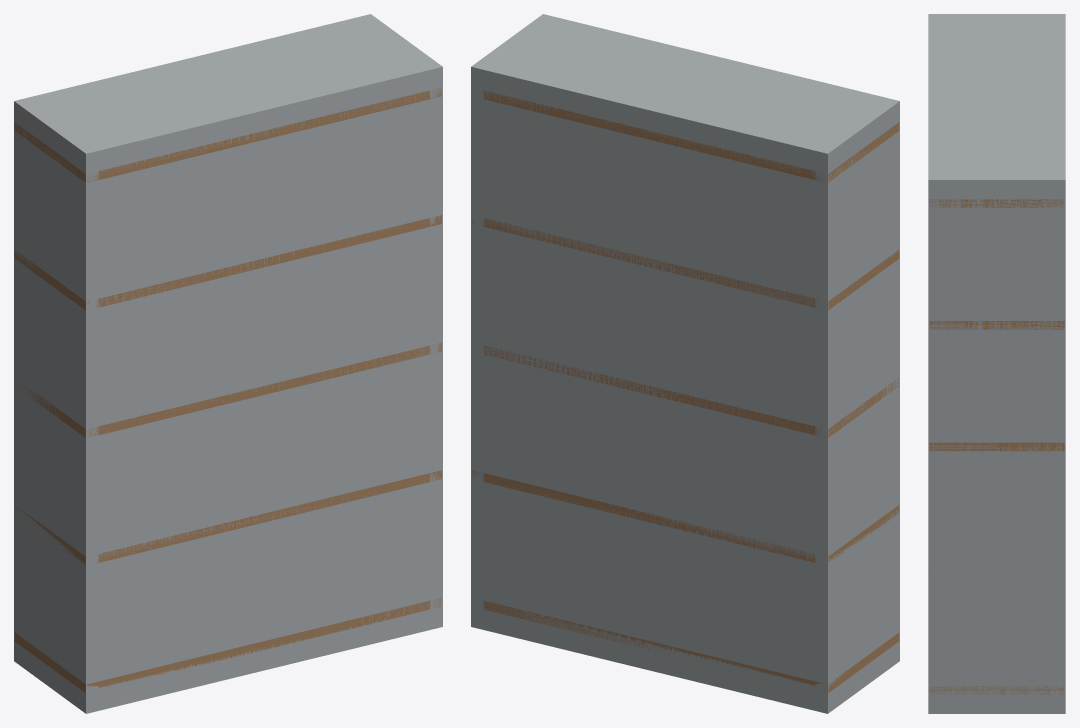
The model's file is open_shelf.glb.
3 renders of one model, left to right at view 1: azimuth 30°, elevation 25°; view 2: azimuth 150°, elevation 25°; view 3: azimuth 270°, elevation 25°, orthographic. The views are drawn at different scales.
Visible parts, largest first — view 1: propkit_open_shelf_COL, propkit_open_shelf_002_post, propkit_open_shelf_004_post, propkit_open_shelf_009_shelf_4, propkit_open_shelf_008_shelf_3, propkit_open_shelf_007_shelf_2, propkit_open_shelf_005_shelf_0, propkit_open_shelf_006_shelf_1; view 2: propkit_open_shelf_COL, propkit_open_shelf_001_post, propkit_open_shelf_003_post, propkit_open_shelf_009_shelf_4, propkit_open_shelf_008_shelf_3, propkit_open_shelf_006_shelf_1, propkit_open_shelf_007_shelf_2, propkit_open_shelf_005_shelf_0; view 3: propkit_open_shelf_COL, propkit_open_shelf_007_shelf_2, propkit_open_shelf_008_shelf_3, propkit_open_shelf_009_shelf_4, propkit_open_shelf_004_post, propkit_open_shelf_005_shelf_0, propkit_open_shelf_003_post.
Part boxes in pixels (x1,y1,x2,y2): propkit_open_shelf_COL: (14,14,442,713); propkit_open_shelf_002_post: (79,145,98,712); propkit_open_shelf_004_post: (425,61,441,628); propkit_open_shelf_009_shelf_4: (14,87,441,182); propkit_open_shelf_008_shelf_3: (14,215,441,309); propkit_open_shelf_007_shelf_2: (20,342,441,437); propkit_open_shelf_005_shelf_0: (14,598,441,692); propkit_open_shelf_006_shelf_1: (15,470,441,565); propkit_open_shelf_COL: (471,14,899,713); propkit_open_shelf_001_post: (815,145,834,712); propkit_open_shelf_003_post: (472,62,486,628); propkit_open_shelf_009_shelf_4: (472,90,899,182); propkit_open_shelf_008_shelf_3: (472,218,899,309); propkit_open_shelf_006_shelf_1: (472,470,899,562); propkit_open_shelf_007_shelf_2: (483,346,898,437); propkit_open_shelf_005_shelf_0: (483,600,899,692); propkit_open_shelf_COL: (928,14,1065,713); propkit_open_shelf_007_shelf_2: (929,442,1064,451); propkit_open_shelf_008_shelf_3: (929,321,1064,329); propkit_open_shelf_009_shelf_4: (929,199,1064,207); propkit_open_shelf_004_post: (929,174,941,548); propkit_open_shelf_005_shelf_0: (929,686,1064,694); propkit_open_shelf_003_post: (1052,174,1064,514).
Size of the model in its own units: 1.2 by 1.8 by 0.42.
